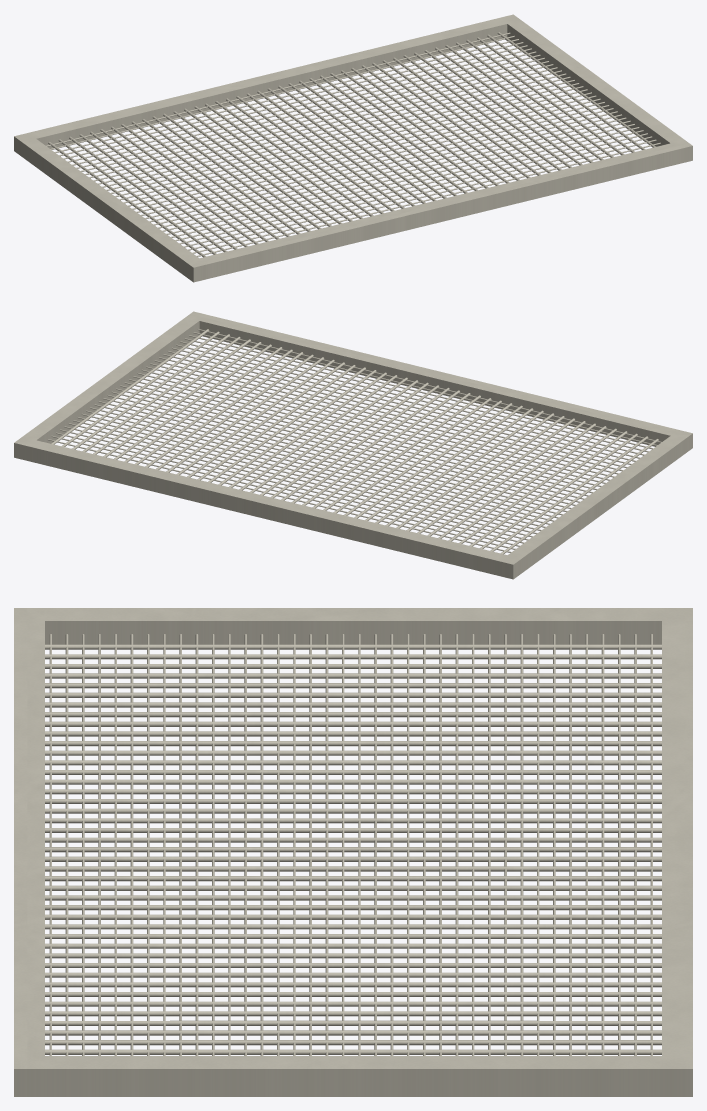
Rendered from Grid_second.glb.
3 renders of one model, top to bottom at view 1: azimuth 30°, elevation 25°; view 2: azimuth 150°, elevation 25°; view 3: azimuth 270°, elevation 25°, orthographic. The views are drawn at different scales.
Visible parts, largest first — view 1: Body1, Body14, Body20, Body7, Body8, Body32, Body33, Body34, Body6, Body12, Body26, Body21 (+25 smaller); view 2: Body1, Body38, Body19, Body5, Body13, Body31, Body39, Body11, Body12, Body25, Body27, Body32 (+25 smaller); view 3: Body1, Body22, Body26, Body30, Body34, Body18, Body38, Body14, Body10, Body5, Body12, Body15 (+27 smaller).
Part boxes in pixels (x1=…): Body1: x1=14, y1=14, x2=692, y2=282; Body14: x1=97, y1=70, x2=561, y2=184; Body20: x1=123, y1=89, x2=587, y2=203; Body7: x1=67, y1=48, x2=531, y2=162; Body8: x1=72, y1=51, x2=536, y2=165; Body32: x1=175, y1=127, x2=639, y2=240; Body33: x1=179, y1=130, x2=643, y2=244; Body34: x1=183, y1=133, x2=647, y2=247; Body6: x1=63, y1=45, x2=527, y2=159; Body12: x1=89, y1=64, x2=553, y2=178; Body26: x1=149, y1=108, x2=613, y2=222; Body21: x1=128, y1=92, x2=591, y2=206; Body1: x1=14, y1=311, x2=692, y2=579; Body38: x1=193, y1=332, x2=657, y2=445; Body19: x1=111, y1=391, x2=575, y2=505; Body5: x1=51, y1=435, x2=515, y2=549; Body13: x1=86, y1=410, x2=550, y2=524; Body31: x1=163, y1=354, x2=627, y2=467; Body39: x1=197, y1=329, x2=661, y2=442; Body11: x1=77, y1=417, x2=541, y2=530; Body12: x1=81, y1=413, x2=545, y2=527; Body25: x1=137, y1=373, x2=601, y2=486; Body27: x1=146, y1=366, x2=610, y2=480; Body32: x1=167, y1=351, x2=631, y2=464; Body1: x1=14, y1=608, x2=692, y2=1096; Body22: x1=325, y1=634, x2=328, y2=1055; Body26: x1=260, y1=634, x2=263, y2=1055; Body30: x1=195, y1=634, x2=198, y2=1055; Body34: x1=130, y1=634, x2=133, y2=1055; Body18: x1=390, y1=634, x2=393, y2=1055; Body38: x1=65, y1=634, x2=68, y2=1055; Body14: x1=455, y1=634, x2=458, y2=1055; Body10: x1=520, y1=634, x2=523, y2=1055; Body5: x1=601, y1=634, x2=604, y2=1055; Body12: x1=488, y1=634, x2=490, y2=1055; Body15: x1=439, y1=634, x2=441, y2=1055.
Size of the model in its own units: 1.06 by 0.03 by 0.66.
1 material, 1 textured.
